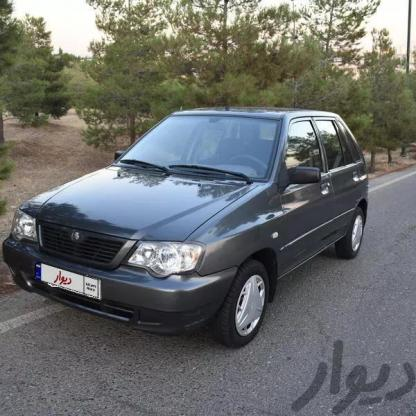Car: (0, 100, 379, 344)
